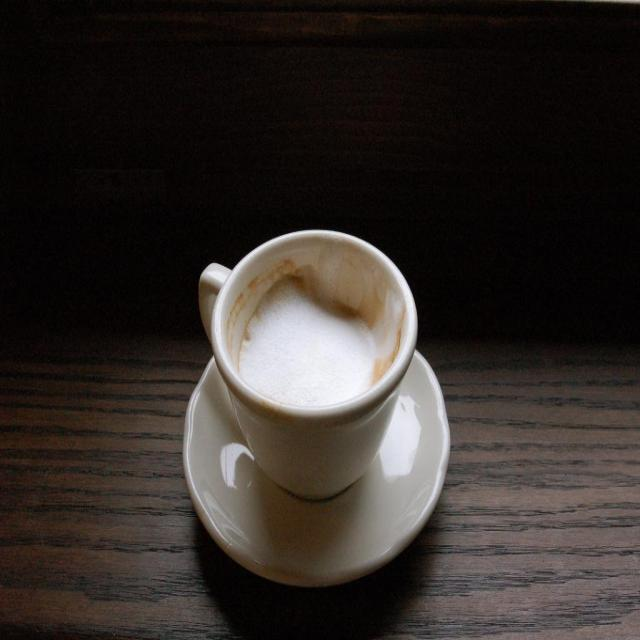Coffee: (192, 236, 419, 514)
